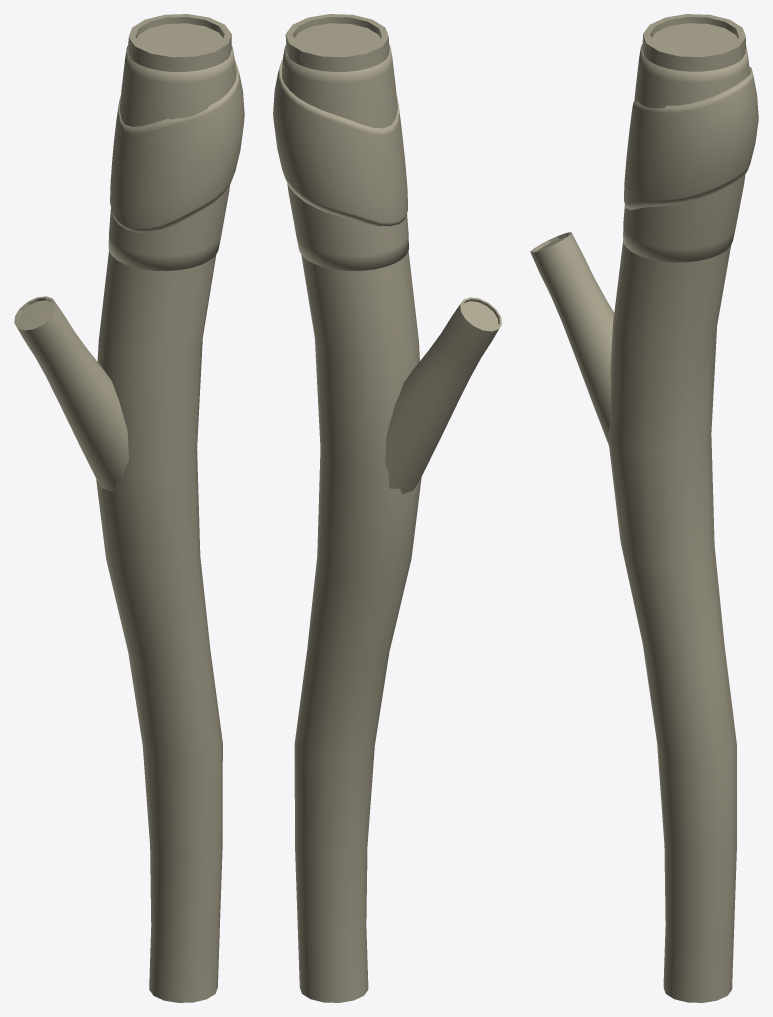
File: SM_Collectible_Torch.fbx
The picture shows the model from 3 angles, left to right: view 1: azimuth 30°, elevation 25°; view 2: azimuth 150°, elevation 25°; view 3: azimuth 330°, elevation 25°; orthographic projection.
Parts seen in each view (by area): view 1: Torch; view 2: Torch; view 3: Torch.
Part boxes in pixels (bbox=[...]): Torch: bbox=[14, 14, 244, 1002]; Torch: bbox=[273, 14, 501, 1002]; Torch: bbox=[530, 14, 758, 1002].
Bounding box in the file's own units: 0.1556 × 0.6494 × 0.0791.
